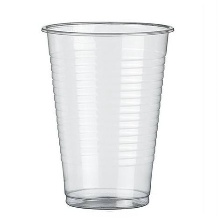glass: (32, 10, 180, 216)
